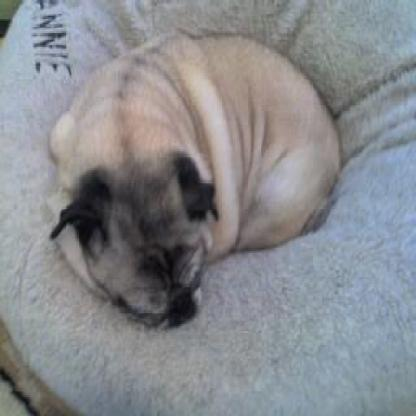pug: (47, 24, 339, 331)
